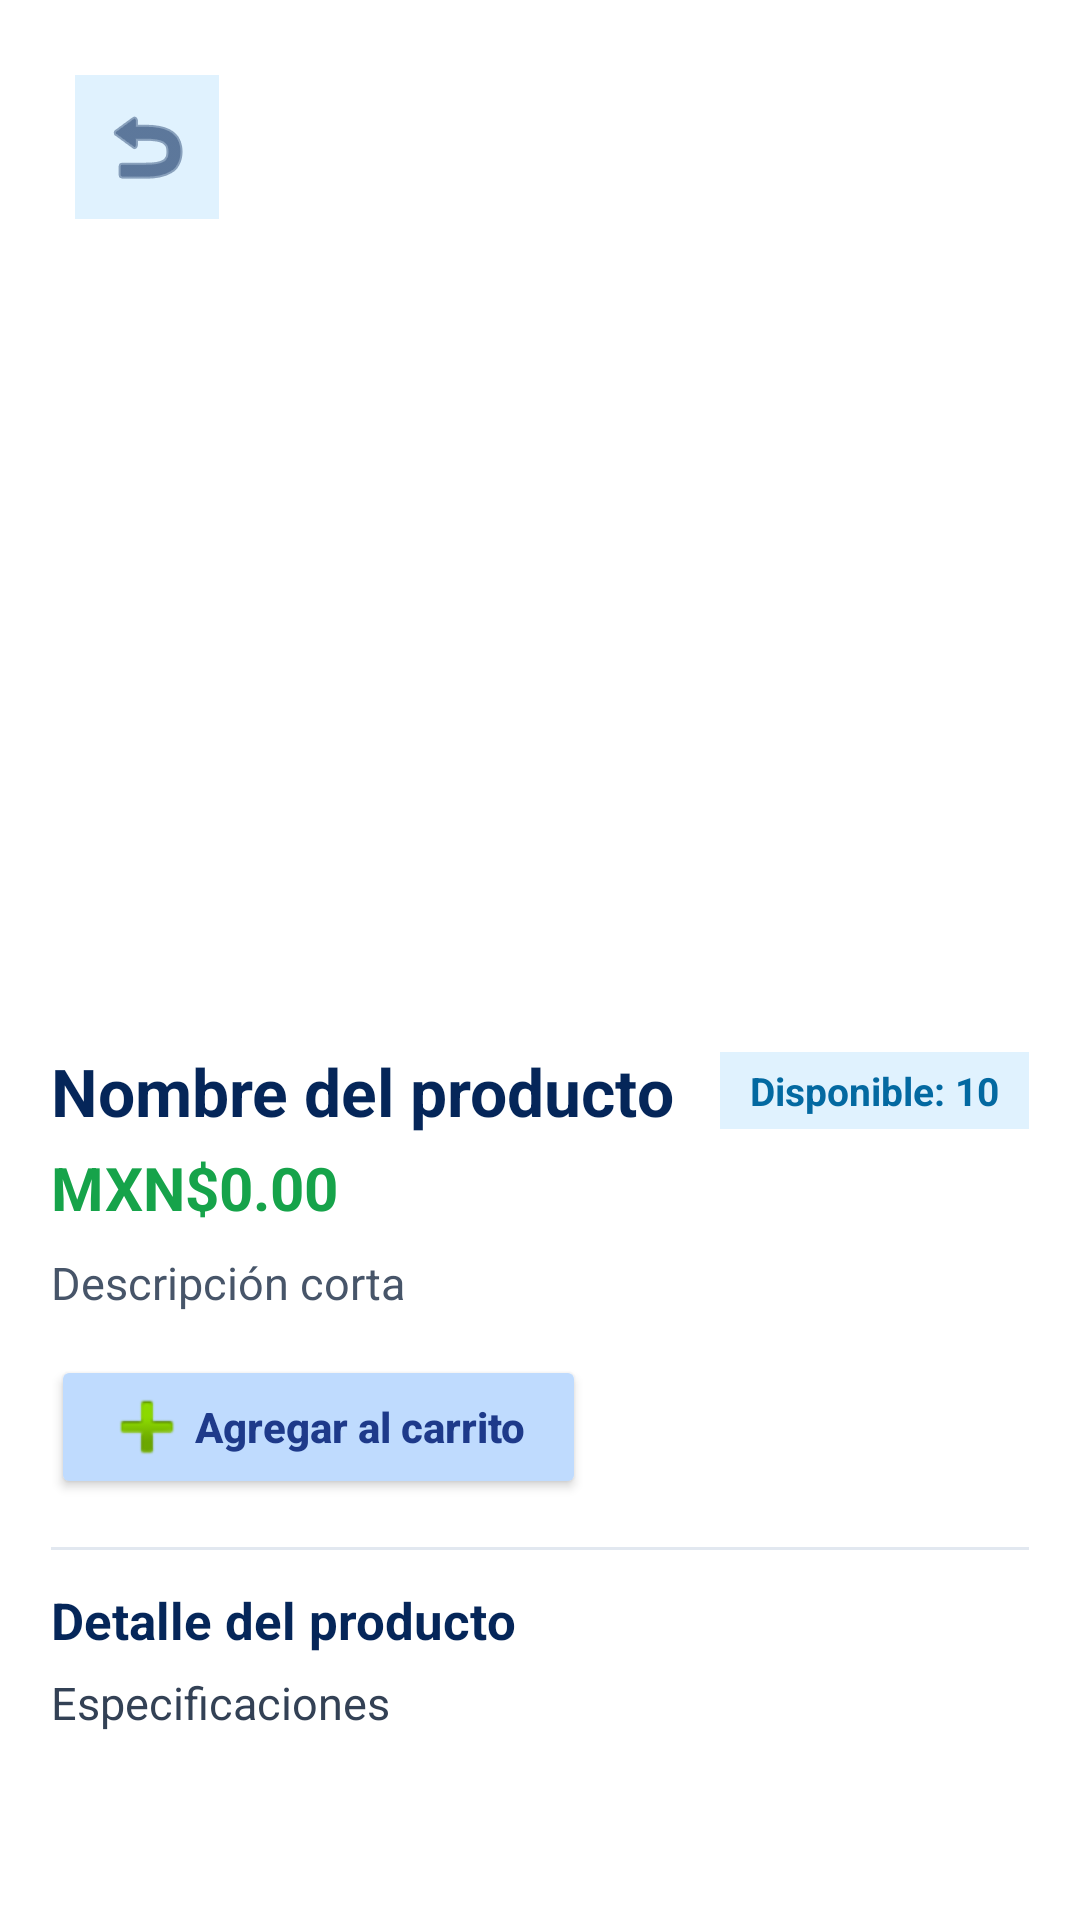

Icons on this 1080*1920 Android screen, each with the point to tap as [x,y]:
Regresar: [147,147]
